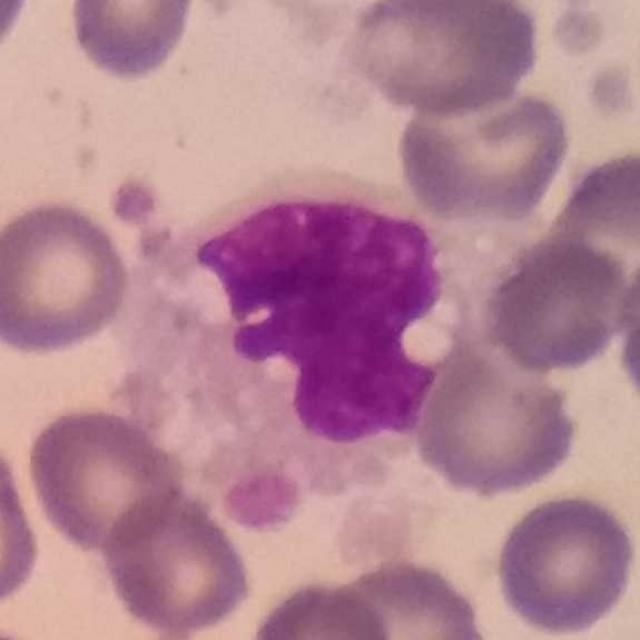mono: (113, 173, 550, 526)
